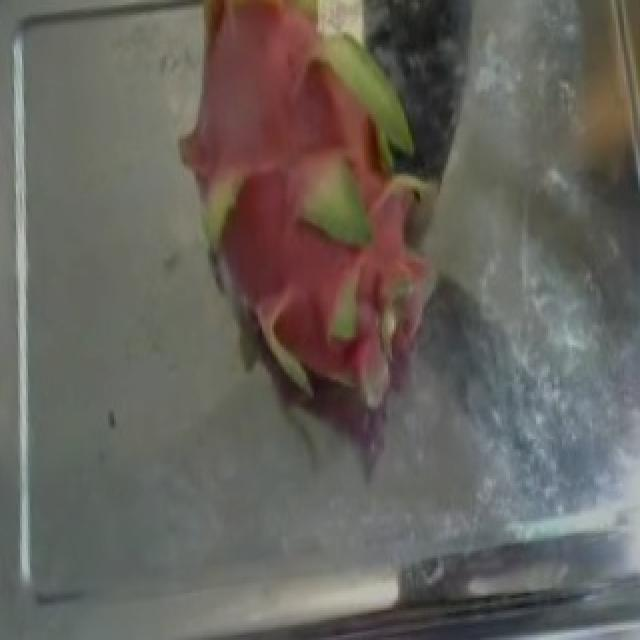fruit: (140, 2, 508, 454)
